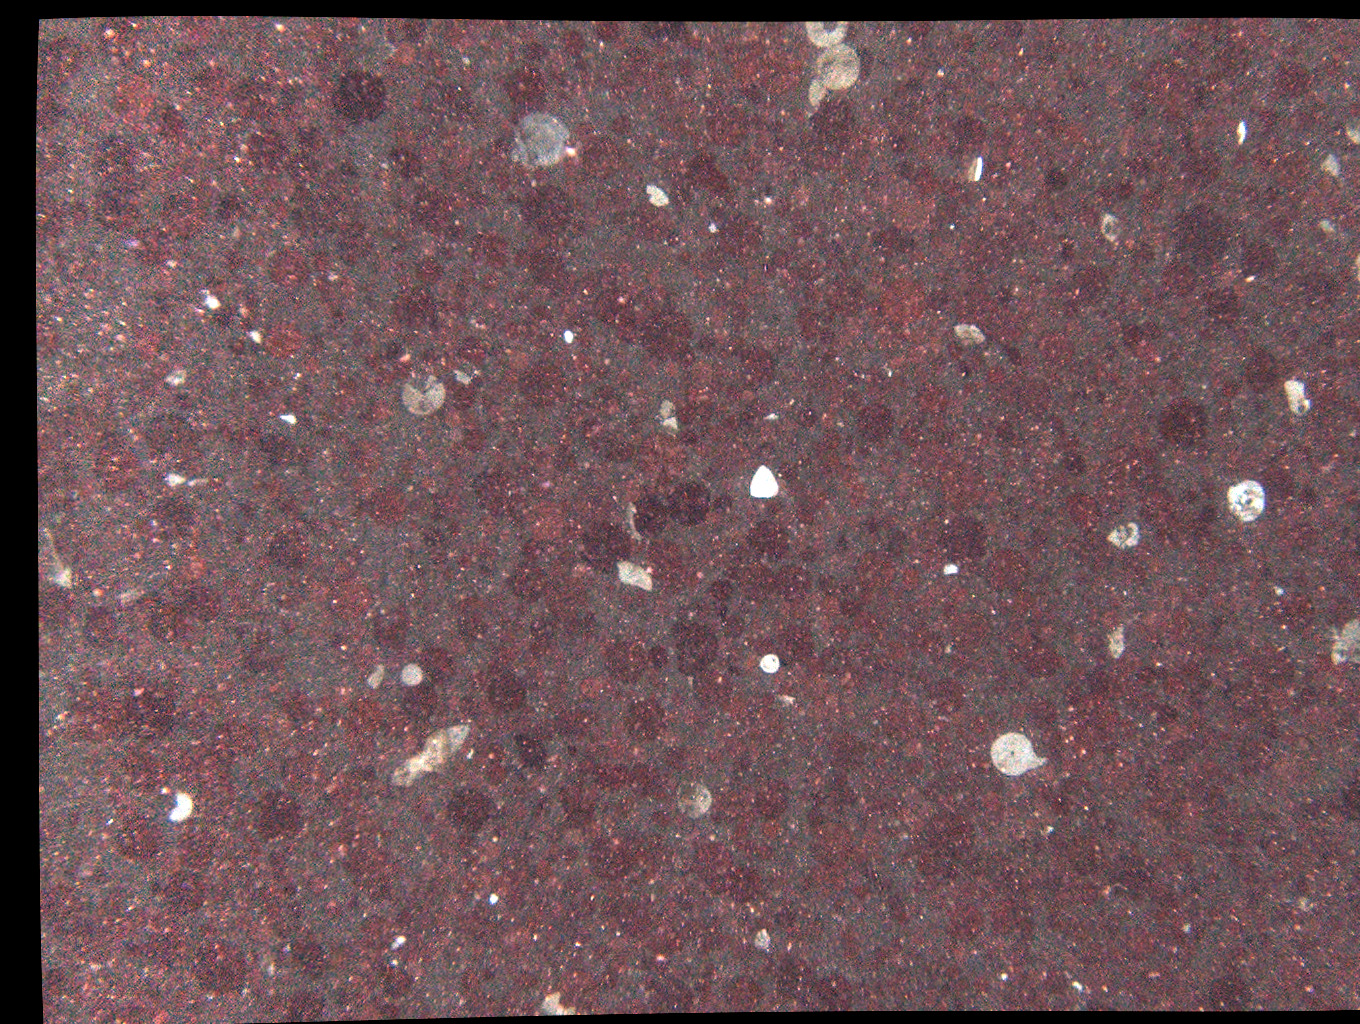Small shell hash: (87, 71, 100, 84)
Substrate A: (81, 20, 95, 32)
sand dollar: (1170, 205, 1227, 261), (1107, 447, 1164, 500), (941, 520, 993, 567), (739, 521, 787, 569), (512, 563, 560, 611), (856, 394, 904, 442), (872, 278, 920, 326), (827, 266, 875, 314), (759, 40, 807, 88), (512, 495, 560, 543), (426, 368, 474, 416), (701, 99, 749, 147), (708, 214, 757, 262), (674, 156, 722, 204), (400, 284, 448, 332), (513, 238, 561, 286), (579, 140, 628, 188), (941, 466, 989, 514), (911, 433, 959, 482), (640, 315, 688, 362), (904, 390, 953, 438), (259, 246, 307, 294), (358, 487, 406, 535), (597, 278, 645, 325), (624, 501, 672, 549), (664, 483, 712, 531), (886, 189, 934, 237), (806, 95, 854, 143), (337, 73, 385, 120), (638, 436, 685, 484), (405, 194, 453, 242), (495, 63, 543, 111), (418, 250, 466, 298), (514, 191, 562, 239), (1011, 374, 1059, 422), (1057, 488, 1105, 536), (371, 607, 420, 653), (547, 546, 595, 594), (576, 515, 624, 563), (464, 234, 512, 282), (632, 204, 679, 252), (522, 359, 570, 407), (735, 350, 782, 395), (101, 139, 148, 181), (280, 695, 323, 737), (552, 705, 595, 746), (94, 447, 135, 489), (143, 605, 185, 646), (149, 421, 191, 463), (149, 506, 191, 547), (192, 947, 234, 989), (956, 606, 998, 648), (953, 904, 994, 945), (733, 561, 775, 603), (1277, 591, 1319, 632), (1129, 506, 1171, 547), (1234, 234, 1276, 276), (1278, 748, 1320, 790), (1065, 719, 1107, 760), (135, 230, 178, 271), (35, 594, 78, 635), (294, 927, 337, 968), (824, 727, 867, 768), (1123, 314, 1166, 355), (335, 574, 380, 614), (121, 321, 163, 361), (263, 317, 305, 358), (289, 150, 331, 190), (242, 128, 284, 169), (230, 80, 272, 120), (170, 15, 212, 56), (46, 41, 88, 82), (196, 70, 238, 111), (145, 106, 187, 147), (160, 191, 202, 232), (94, 190, 135, 231), (100, 80, 142, 120), (305, 608, 347, 649), (483, 673, 525, 714), (415, 648, 457, 688), (393, 685, 435, 726), (334, 700, 376, 741), (126, 758, 168, 799), (181, 757, 223, 798), (216, 717, 258, 758), (70, 702, 112, 743), (121, 700, 163, 741), (77, 607, 119, 648), (186, 586, 228, 627), (180, 543, 221, 584), (267, 524, 309, 565), (625, 40, 667, 81), (409, 139, 450, 180), (438, 136, 479, 176), (287, 189, 329, 230), (329, 232, 371, 273), (596, 424, 638, 465), (469, 474, 511, 515), (342, 439, 384, 480), (249, 431, 291, 472), (953, 823, 994, 864), (811, 827, 853, 868), (747, 778, 789, 819), (628, 700, 670, 741), (722, 786, 764, 827), (783, 958, 825, 999), (721, 966, 763, 1007), (657, 978, 699, 1019), (720, 871, 762, 912), (625, 845, 667, 886), (695, 843, 736, 884), (455, 828, 497, 869), (614, 895, 656, 936), (554, 964, 596, 1005), (38, 969, 80, 1010), (362, 908, 404, 949), (38, 891, 80, 931), (84, 923, 126, 964), (123, 912, 164, 953), (161, 877, 203, 918), (176, 821, 218, 862), (112, 817, 154, 858), (375, 963, 417, 1004), (586, 757, 628, 798), (589, 840, 631, 881), (560, 785, 602, 826), (512, 729, 554, 770), (284, 759, 326, 800), (258, 797, 300, 838), (339, 844, 381, 885), (441, 788, 483, 829), (822, 589, 864, 630), (929, 674, 971, 715), (1025, 639, 1066, 680), (989, 546, 1031, 587), (611, 639, 653, 680), (668, 628, 710, 669), (650, 547, 692, 588), (765, 628, 807, 669), (770, 565, 812, 606), (853, 550, 894, 591), (890, 703, 932, 744), (990, 895, 1032, 936), (1061, 840, 1103, 881), (1247, 347, 1289, 388), (1085, 699, 1127, 740), (1305, 656, 1347, 697), (1262, 658, 1304, 699), (1278, 525, 1320, 566), (1260, 471, 1302, 512), (1163, 404, 1205, 445), (1189, 101, 1231, 142), (991, 97, 1033, 138), (1140, 59, 1182, 100), (1273, 54, 1315, 95), (1306, 167, 1348, 208), (1264, 156, 1306, 197), (1185, 150, 1227, 190), (1295, 276, 1337, 317), (1203, 271, 1245, 312), (1164, 251, 1206, 291), (1192, 686, 1234, 727), (1114, 652, 1156, 693), (684, 665, 726, 706), (813, 783, 855, 824), (1175, 625, 1217, 666), (1249, 681, 1291, 722), (1318, 786, 1360, 827), (1161, 757, 1203, 798), (1099, 856, 1141, 897), (1201, 980, 1243, 1021), (1175, 807, 1217, 848), (997, 969, 1039, 1010), (1113, 922, 1155, 963), (1076, 774, 1118, 815), (1105, 751, 1147, 792), (910, 817, 951, 858), (811, 971, 856, 1009), (1040, 325, 1078, 365), (953, 289, 991, 329), (985, 297, 1023, 337), (970, 224, 1008, 264), (1068, 269, 1106, 309), (950, 108, 988, 148), (908, 159, 946, 199), (575, 677, 604, 705), (528, 617, 557, 645)
